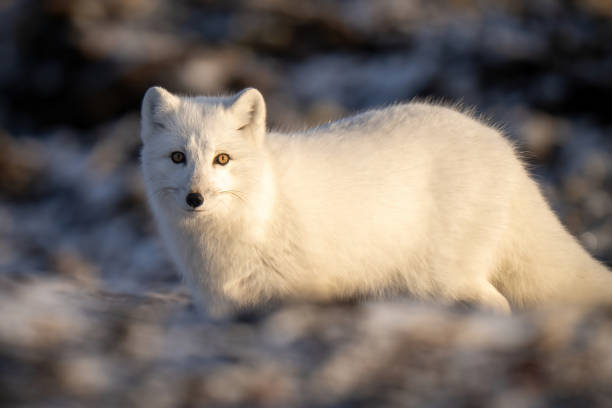arcticfox: (156, 120, 262, 232)
